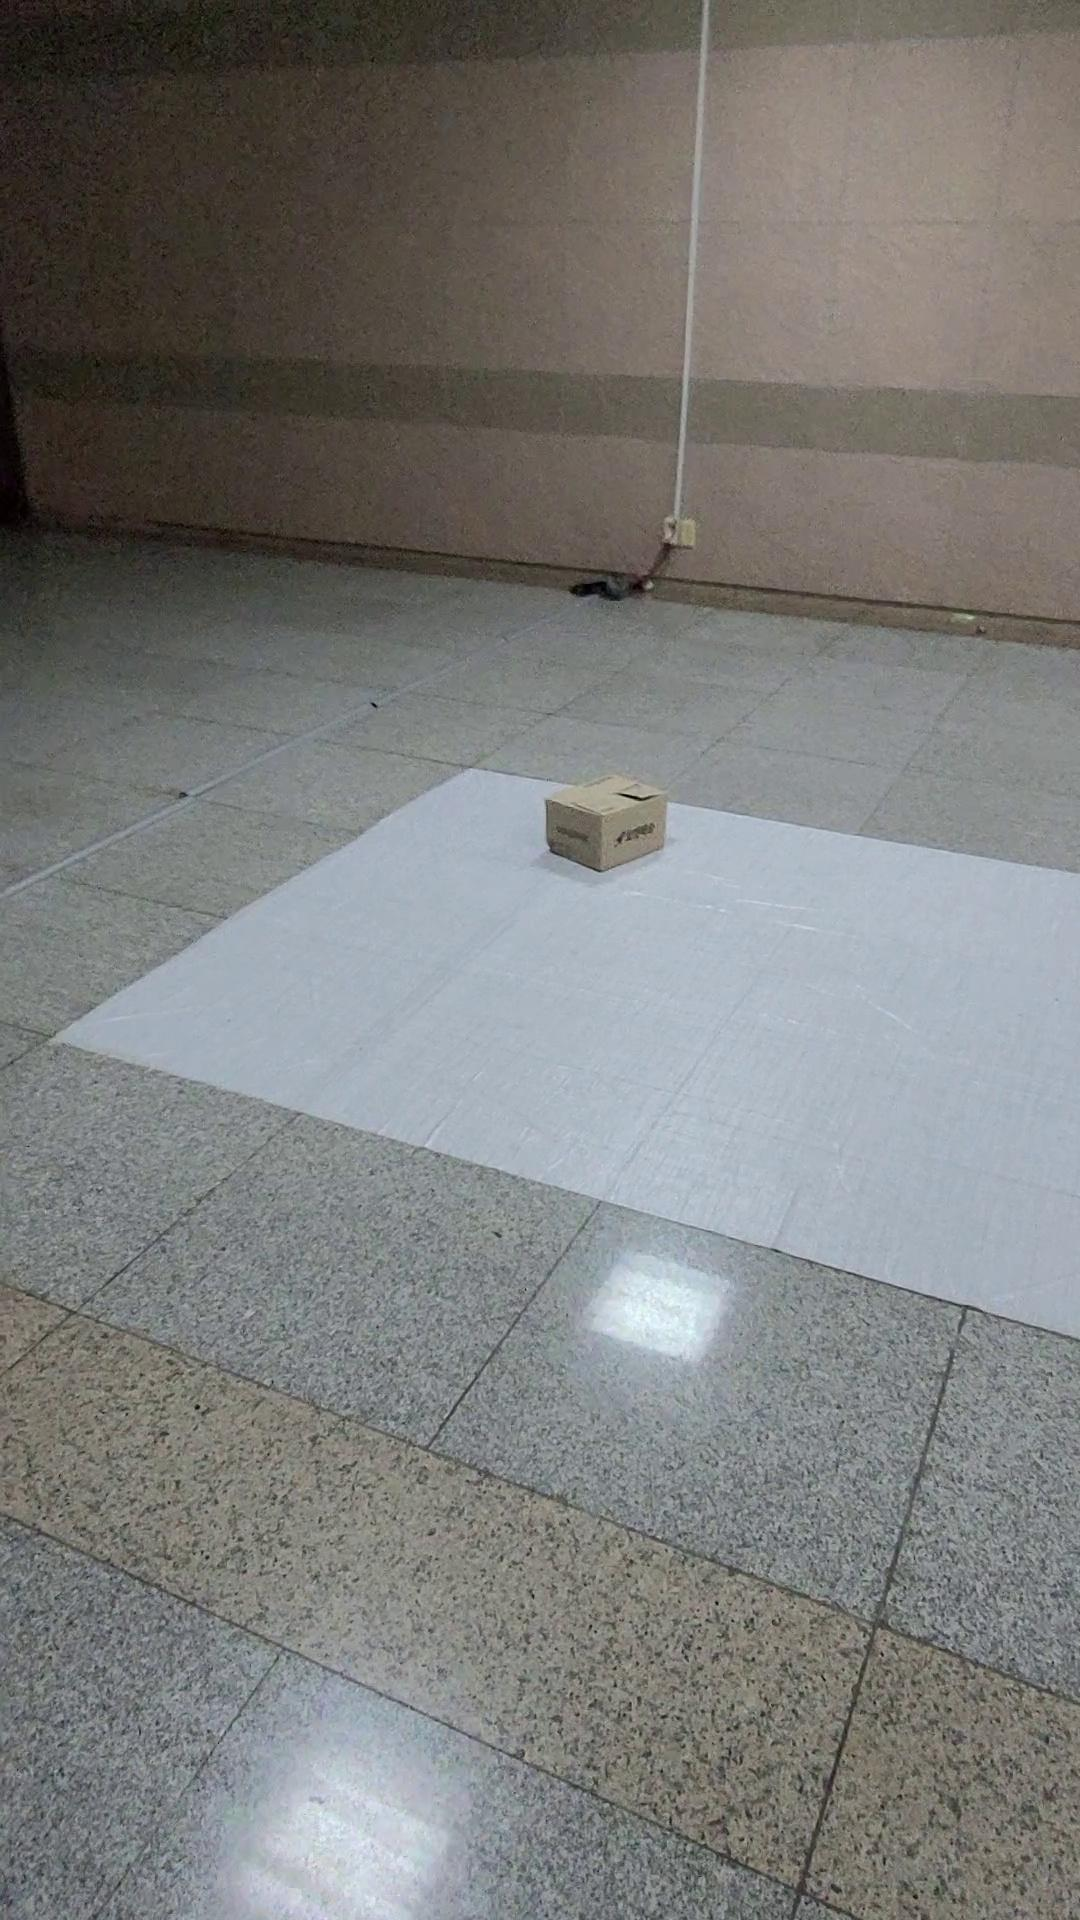Box: (518, 765, 729, 916)
